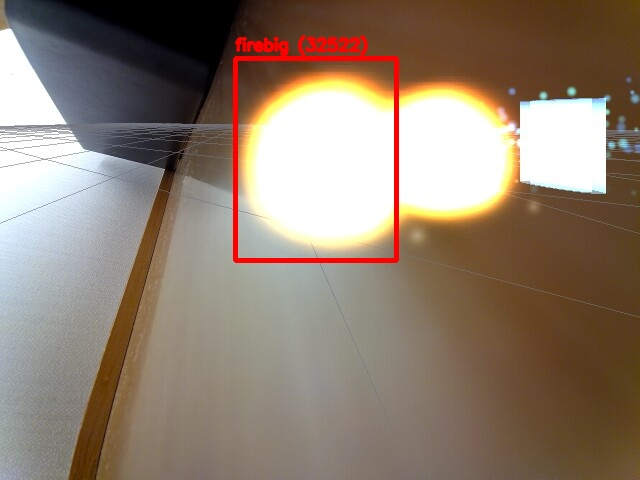firebig: (235, 58, 396, 260)
